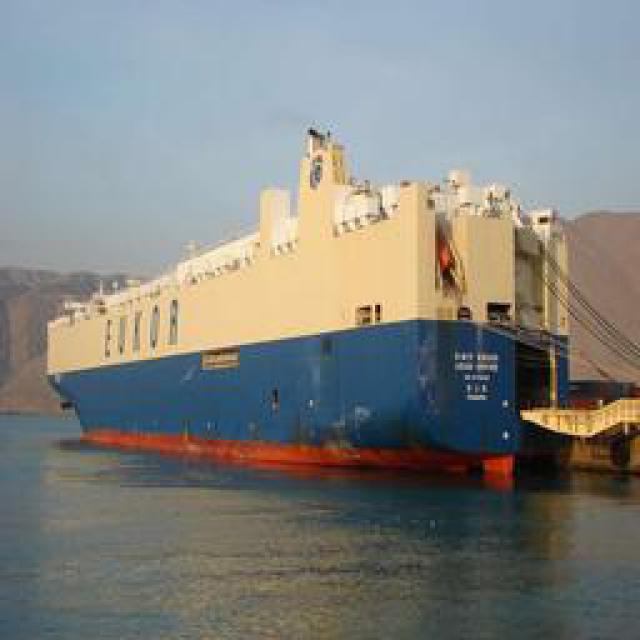Ship: (42, 121, 615, 459)
